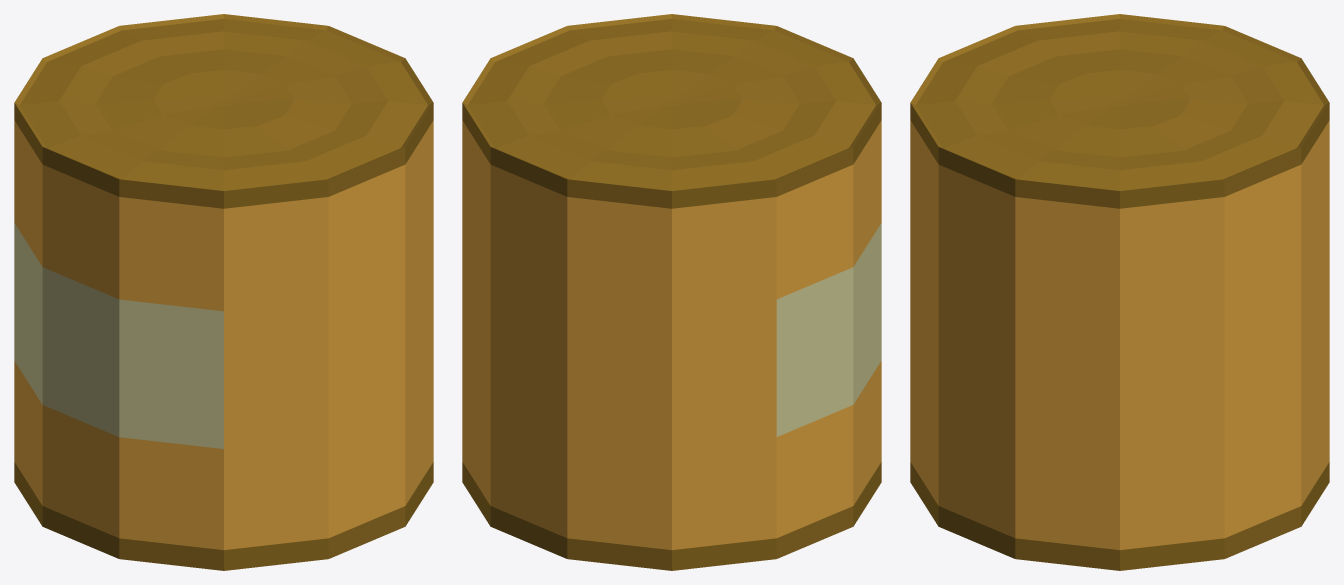
File: Dosenmandarinen.fbx
3 views of the same model, side by side, from view 1: azimuth 30°, elevation 25°; view 2: azimuth 150°, elevation 25°; view 3: azimuth 270°, elevation 25° (orthographic).
Visible parts, largest first — view 1: Cylinder.001; view 2: Cylinder.001; view 3: Cylinder.001.
Boxes of the visible parts, left/top/right/bottom form: Cylinder.001: left=14, top=14, right=433, bottom=570; Cylinder.001: left=462, top=14, right=881, bottom=570; Cylinder.001: left=910, top=14, right=1329, bottom=570.
Size of the model in its own units: 32.38 by 32.62 by 32.38.
